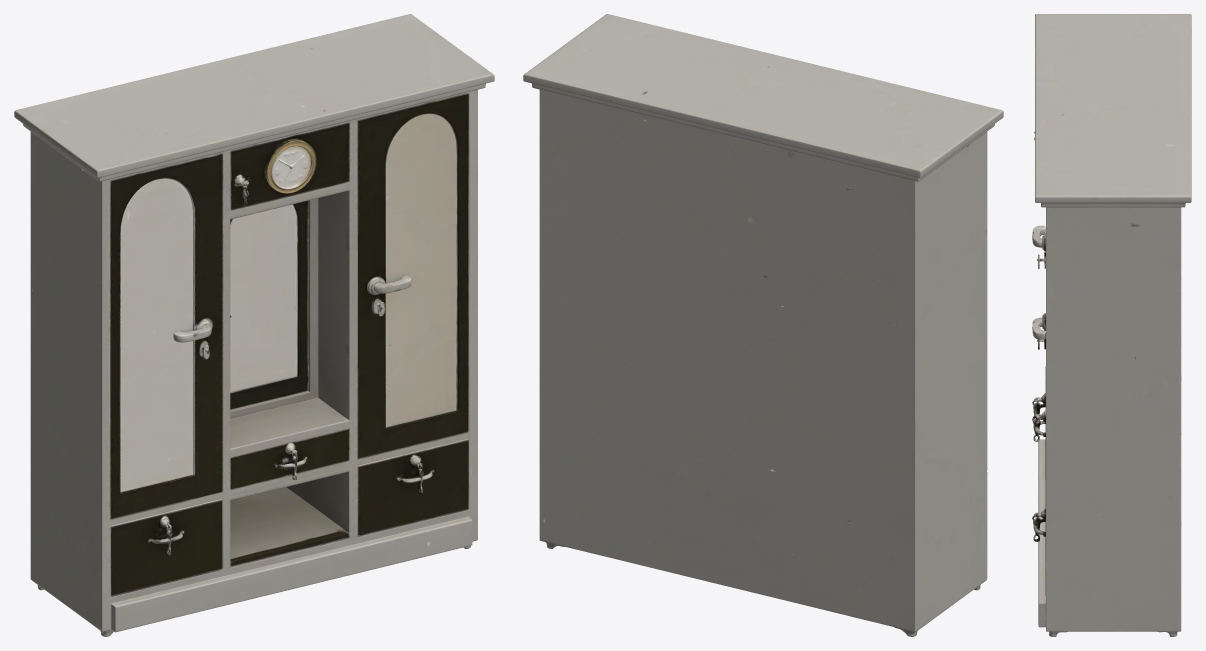
The model's file is almirah1.glb.
3 views of the same model, side by side, from view 1: azimuth 30°, elevation 25°; view 2: azimuth 150°, elevation 25°; view 3: azimuth 270°, elevation 25° (orthographic). The views are drawn at different scales.
Parts seen in each view (by area): view 1: node_0; view 2: node_0; view 3: node_0.
Boxes of the visible parts, x1,y1,x2,y2 form: node_0: [14, 14, 494, 636]; node_0: [523, 14, 1003, 636]; node_0: [1032, 14, 1191, 636].
Size of the model in its own units: 0.7698 by 0.88 by 0.2836.
Materials: 1 (1 with a texture image).
